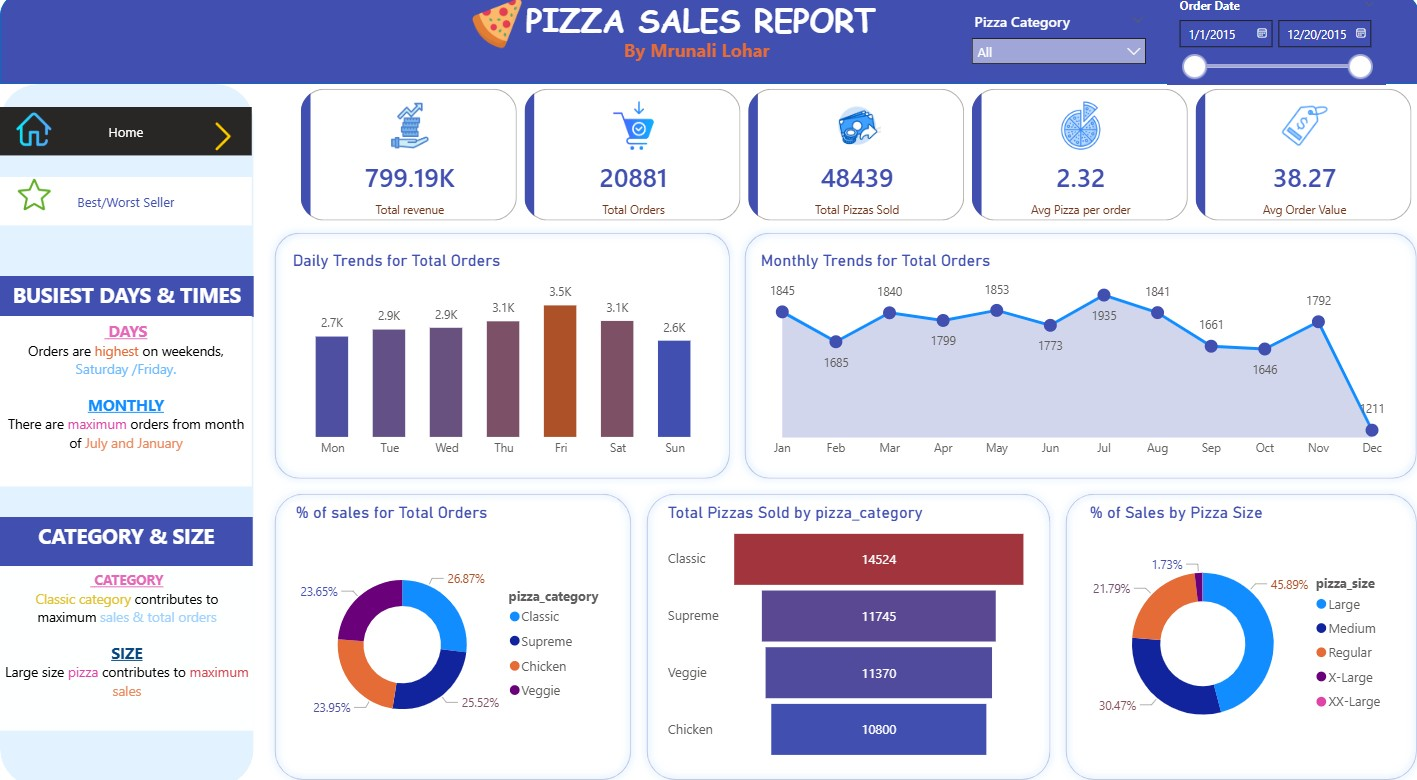

This screenshot's page, from the dashboard's own definition file:
{"tool":"powerbi","page":{"name":"Home","canvas":[1500,820],"ordinal":0},"visuals":[{"type":"shape","box":[12,0,1466,94],"z":0},{"type":"textbox","box":[550.7,0,385.9,61.6],"z":1000},{"type":"textbox","box":[652.2,41.7,215.6,52.5],"z":2000},{"type":"image","box":[481.9,0,87,63.4],"z":3000},{"type":"shape","box":[288,240,486,270],"z":4000},{"type":"shape","box":[774,240,710,270],"z":5000},{"type":"shape","box":[288,509,384,311.6],"z":6000},{"type":"shape","box":[672.1,509,433,311.6],"z":7000},{"type":"shape","box":[1105,509,378.6,311.6],"z":8000},{"type":"cardVisual","fields":{"Data":["pizza_sales.Total revenue","pizza_sales.Total Orders","pizza_sales.Total Pizzas Sold","pizza_sales.Avg Pizza per order","pizza_sales.Avg Order Value"]},"box":[318,94,1160,146],"z":9000},{"type":"columnChart","title":"Daily Trends for Total Orders","fields":{"Category":["pizza_sales.order_day"],"Y":["pizza_sales.Total Orders"]},"box":[310,266,446,222],"z":10000},{"type":"areaChart","title":"Monthly Trends for Total Orders","fields":{"Category":["pizza_sales.Month_Name"],"Y":["pizza_sales.Total Orders"]},"box":[793.3,266.7,663.3,221.7],"z":11000},{"type":"donutChart","title":"% of  sales for Total Orders","fields":{"Y":["pizza_sales.Total revenue"],"Category":["pizza_sales.pizza_category"]},"box":[313.4,527.2,338.8,273.5],"z":12000},{"type":"donutChart","title":"% of Sales by Pizza Size","fields":{"Y":["pizza_sales.Total revenue"],"Series":["pizza_sales.pizza_size"]},"box":[1133.3,526.7,323.3,271.7],"z":13000},{"type":"funnel","fields":{"Category":["pizza_sales.pizza_category"],"Y":["pizza_sales.Total Pizzas Sold"]},"box":[697.4,527.2,382.2,271.7],"z":14000},{"type":"shape","box":[12,94,262,726],"z":15000},{"type":"textbox","box":[12,292,262,42],"z":16000},{"type":"textbox","box":[12.4,541.2,260.8,51.5],"z":17000},{"type":"textbox","box":[12,334,260,176],"z":18000},{"type":"textbox","box":[12,592,262,170],"z":19000},{"type":"slicer","fields":{"Values":["pizza_sales.pizza_category"]},"box":[1006,14,200,68],"z":20000},{"type":"slicer","fields":{"Values":["pizza_sales.order_date"]},"box":[1218,0,226,94],"z":21000},{"type":"pageNavigator","box":[12,118,260,50],"z":22000},{"type":"pageNavigator","box":[12,190,260,50],"z":23000},{"type":"image","box":[214,128,58,40],"z":24000},{"type":"image","box":[12,118,70,46],"z":25000},{"type":"image","box":[26,162,44,92],"z":26000}]}

Visuals, with their boxes in screenshot pixels (x1, y1, x2, y2), scaled from the page's 1500x820 canvas onto the 1417x780 screenshot:
shape: <bbox>11, 0, 1396, 89</bbox>
textbox: <bbox>520, 0, 885, 59</bbox>
textbox: <bbox>616, 40, 820, 90</bbox>
image: <bbox>455, 0, 537, 60</bbox>
shape: <bbox>272, 228, 731, 485</bbox>
shape: <bbox>731, 228, 1402, 485</bbox>
shape: <bbox>272, 484, 635, 779</bbox>
shape: <bbox>635, 484, 1044, 779</bbox>
shape: <bbox>1044, 484, 1402, 779</bbox>
cardVisual - pizza_sales.Total revenue x pizza_sales.Total Orders: <bbox>300, 89, 1396, 228</bbox>
"Daily Trends for Total Orders" columnChart: <bbox>293, 253, 714, 464</bbox>
"Monthly Trends for Total Orders" areaChart: <bbox>749, 254, 1376, 465</bbox>
"% of  sales for Total Orders" donutChart: <bbox>296, 501, 616, 762</bbox>
"% of Sales by Pizza Size" donutChart: <bbox>1071, 501, 1376, 759</bbox>
funnel - pizza_sales.pizza_category x pizza_sales.Total Pizzas Sold: <bbox>659, 501, 1020, 760</bbox>
shape: <bbox>11, 89, 259, 779</bbox>
textbox: <bbox>11, 278, 259, 318</bbox>
textbox: <bbox>12, 515, 258, 564</bbox>
textbox: <bbox>11, 318, 257, 485</bbox>
textbox: <bbox>11, 563, 259, 725</bbox>
slicer - pizza_sales.pizza_category: <bbox>950, 13, 1139, 78</bbox>
slicer - pizza_sales.order_date: <bbox>1151, 0, 1364, 89</bbox>
pageNavigator: <bbox>11, 112, 257, 160</bbox>
pageNavigator: <bbox>11, 181, 257, 228</bbox>
image: <bbox>202, 122, 257, 160</bbox>
image: <bbox>11, 112, 77, 156</bbox>
image: <bbox>25, 154, 66, 242</bbox>
